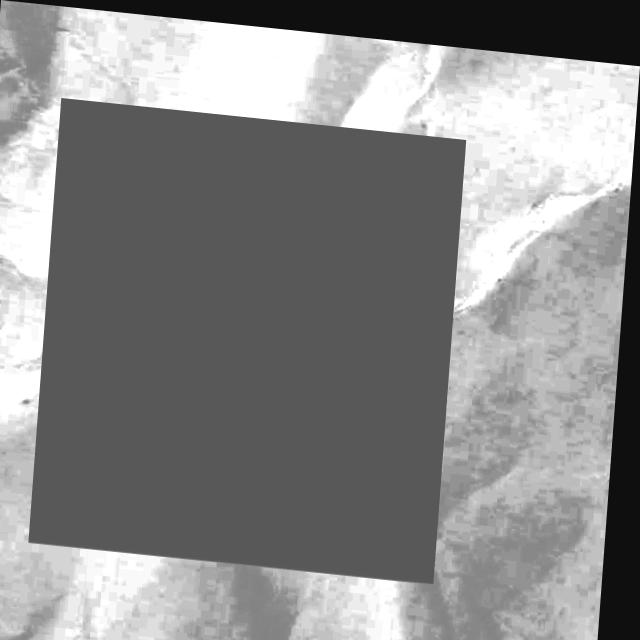qr_code: (36, 97, 467, 574)
